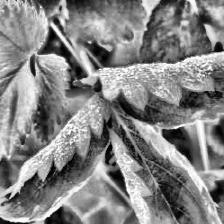Powdery Mildew Leaf: (0, 91, 112, 223), (108, 100, 224, 224), (72, 51, 224, 130)
